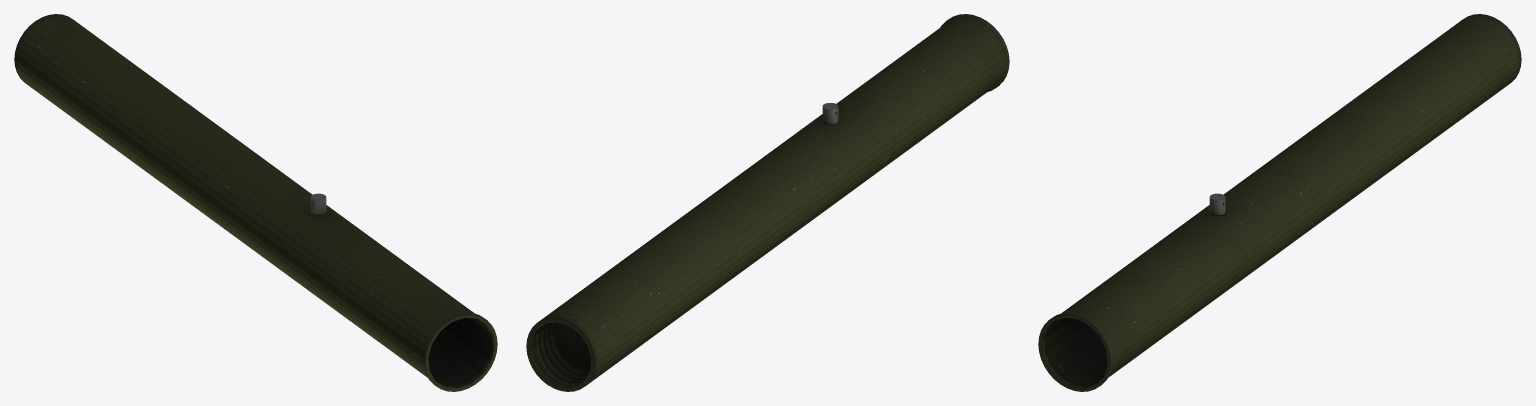
The picture shows the model from 3 angles, left to right: view 1: azimuth 30°, elevation 25°; view 2: azimuth 150°, elevation 25°; view 3: azimuth 330°, elevation 25°; orthographic projection.
Parts seen in each view (by area): view 1: TW_5888945a2459774bf43ba385_PZ_Import; view 2: TW_5888945a2459774bf43ba385_PZ_Import; view 3: TW_5888945a2459774bf43ba385_PZ_Import.
Boxes of the visible parts, <box> form: TW_5888945a2459774bf43ba385_PZ_Import: <box>14,14,497,391</box>; TW_5888945a2459774bf43ba385_PZ_Import: <box>526,14,1009,391</box>; TW_5888945a2459774bf43ba385_PZ_Import: <box>1038,14,1521,391</box>.
Bounding box in the file's own units: 0.0287 × 0.283 × 0.0338.
1 material, 1 textured.
